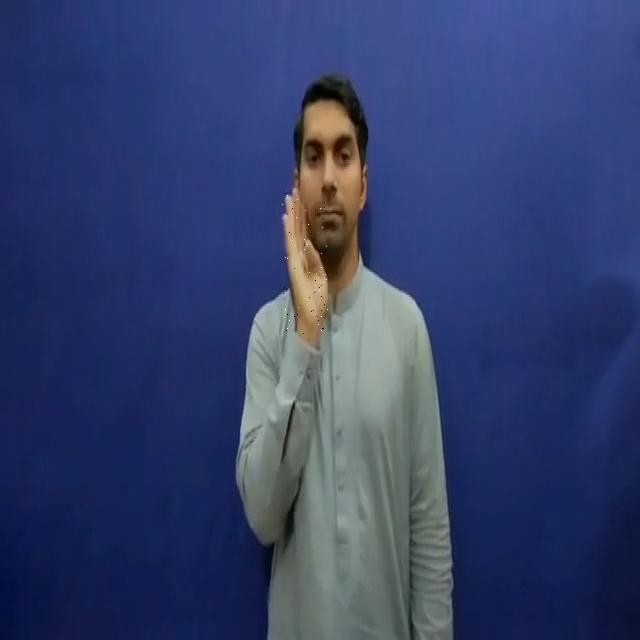napkin: (282, 180, 328, 338)
